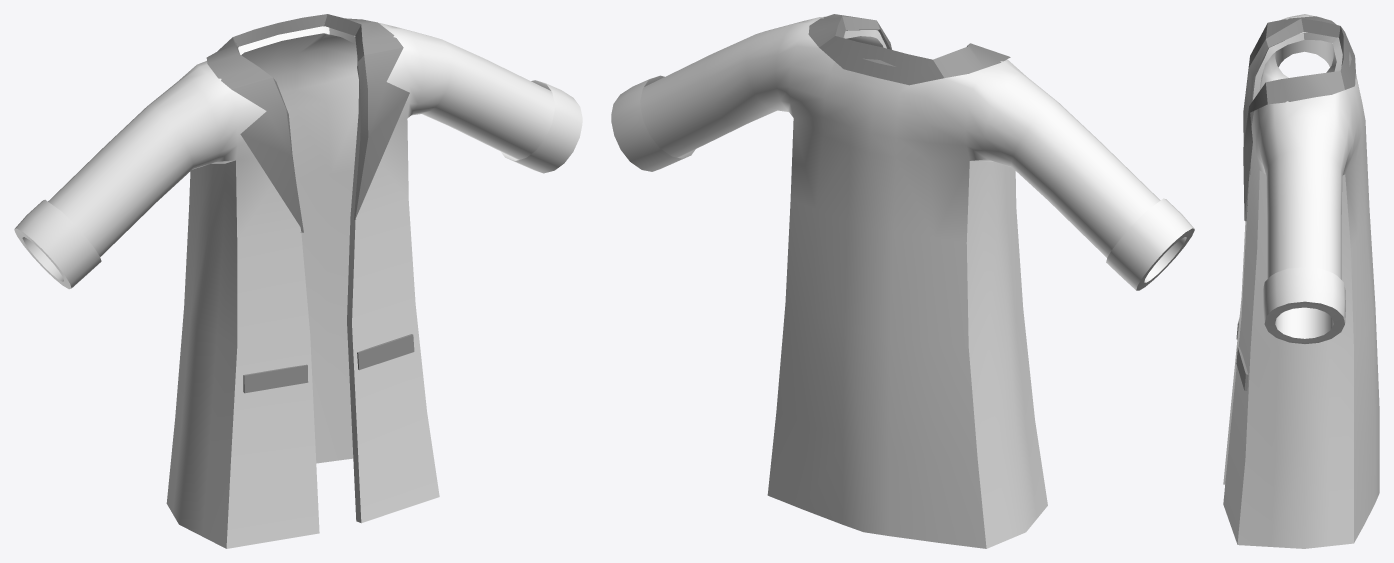
The model's file is lab_coat.glb.
3 renders of one model, left to right at view 1: azimuth 30°, elevation 25°; view 2: azimuth 150°, elevation 25°; view 3: azimuth 270°, elevation 25°, orthographic. The views are drawn at different scales.
Parts seen in each view (by area): view 1: Circle.1783, Circle.2648, Circle.2647; view 2: Circle.1783, Circle.2647, Circle.2648; view 3: Circle.1783, Circle.2648, Circle.2647.
Part boxes in pixels (x1,y1,x2,y2): Circle.1783: (17, 23, 554, 548); Circle.2648: (206, 14, 409, 232); Circle.2647: (14, 80, 582, 289); Circle.1783: (640, 16, 1192, 548); Circle.2647: (611, 75, 1194, 290); Circle.2648: (808, 14, 1010, 85); Circle.1783: (1223, 14, 1379, 548); Circle.2648: (1243, 16, 1355, 221); Circle.2647: (1263, 267, 1345, 343).
Size of the model in its own units: 2.33 by 1.87 by 0.5907.
1 material, 1 textured.
